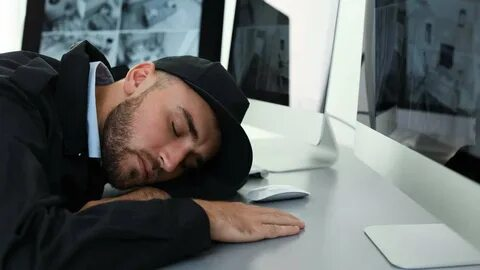sleep: (1, 49, 306, 270)
